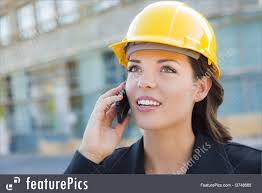Person_wearing_helmet: (108, 1, 226, 84)
